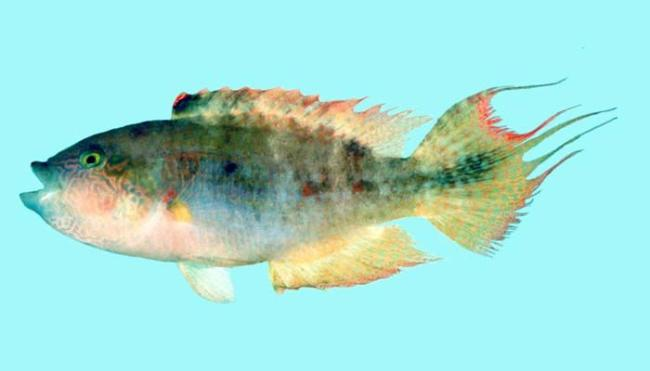fish: (18, 75, 619, 303)
